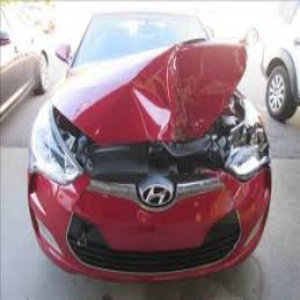bonnet: (75, 30, 251, 133)
